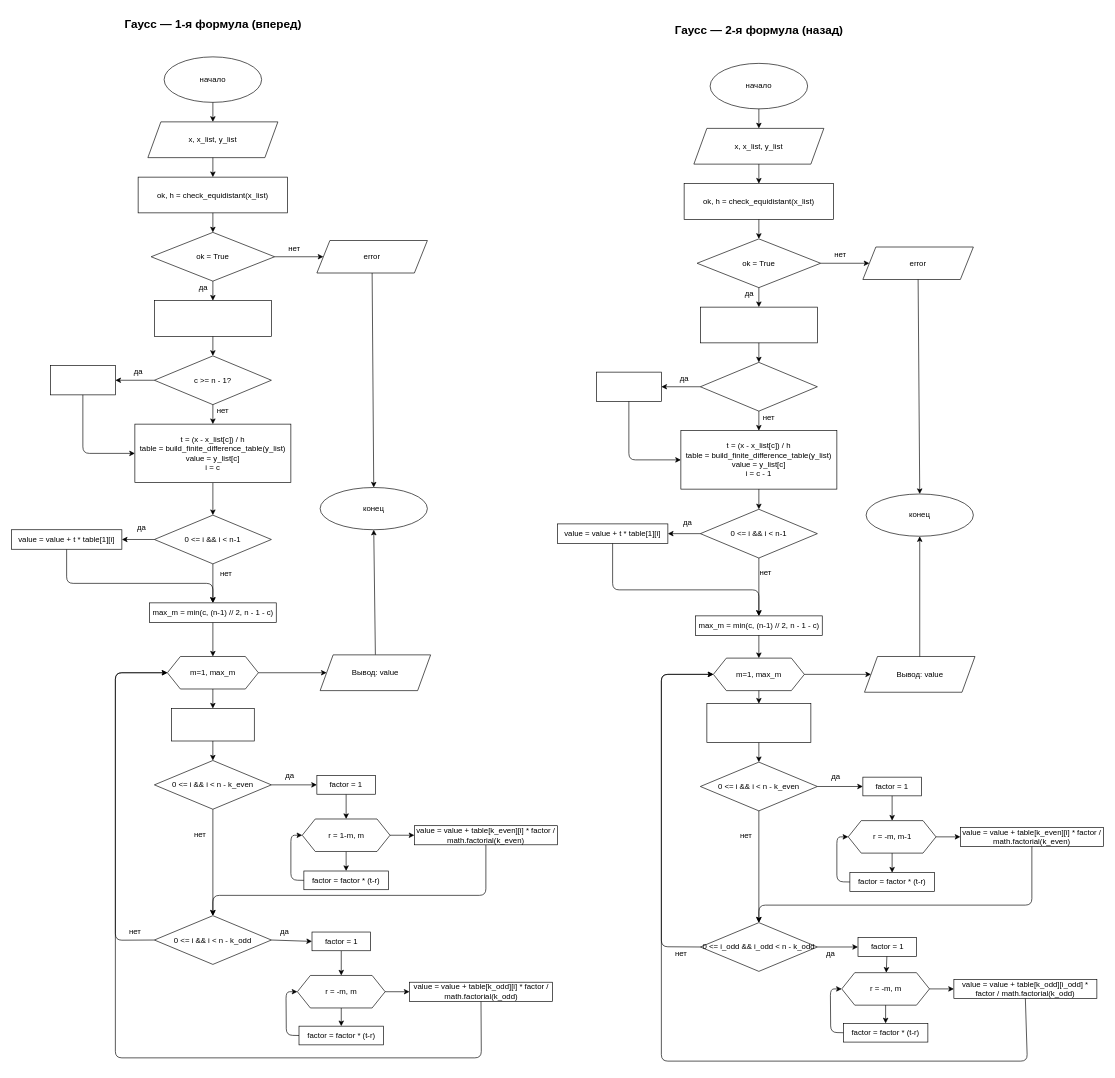
Image size: 1115x1078. Some labels were removed from this diagram. Each missing label, with the box of its shape:
c < 1?: (700, 362, 817, 411)
c = 1: (596, 371, 661, 401)
c = n - 2: (50, 365, 115, 395)
k_even = 2 * m k_odd = 2 * m + 1 i = c - m: (171, 708, 254, 741)
k_even = 2 * m k_odd = 2 * m + 1 i_odd = c - m - 1 i = c - m: (706, 703, 811, 743)
n = len(x_list) c = _left_index(x, x_list): (154, 300, 271, 336)
n = len(x_list) c = _right_index(x, x_list): (700, 306, 817, 343)
